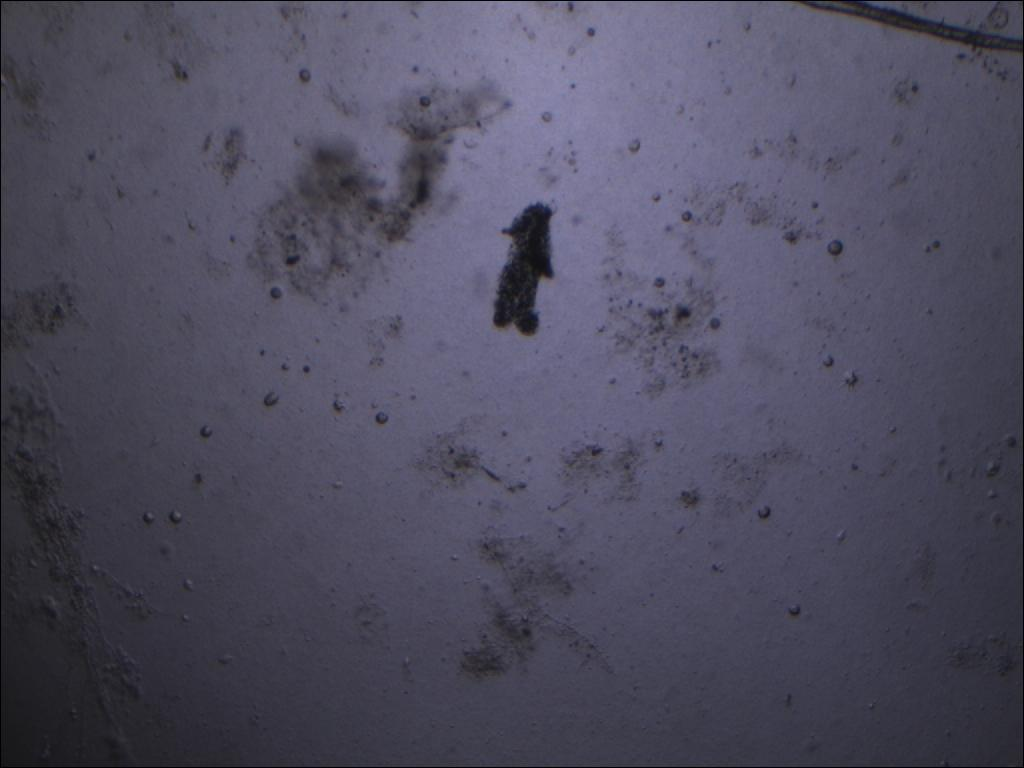amoeba: (483, 191, 567, 348)
